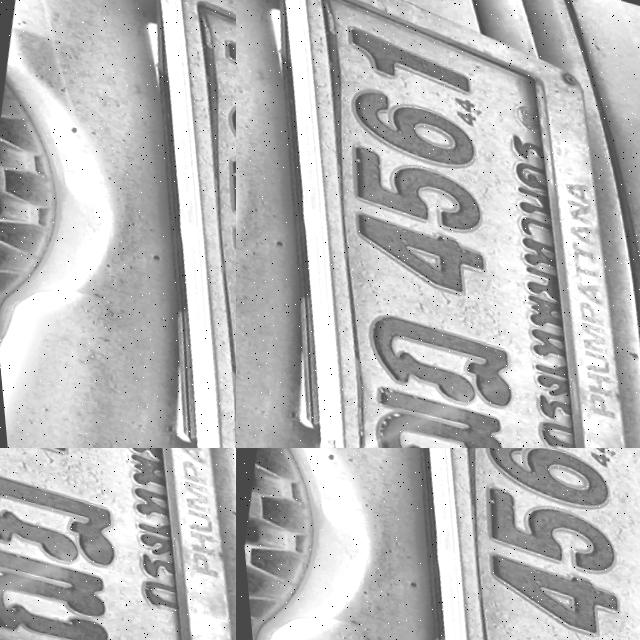license-plate: (267, 448, 640, 640), (400, 179, 599, 389)
